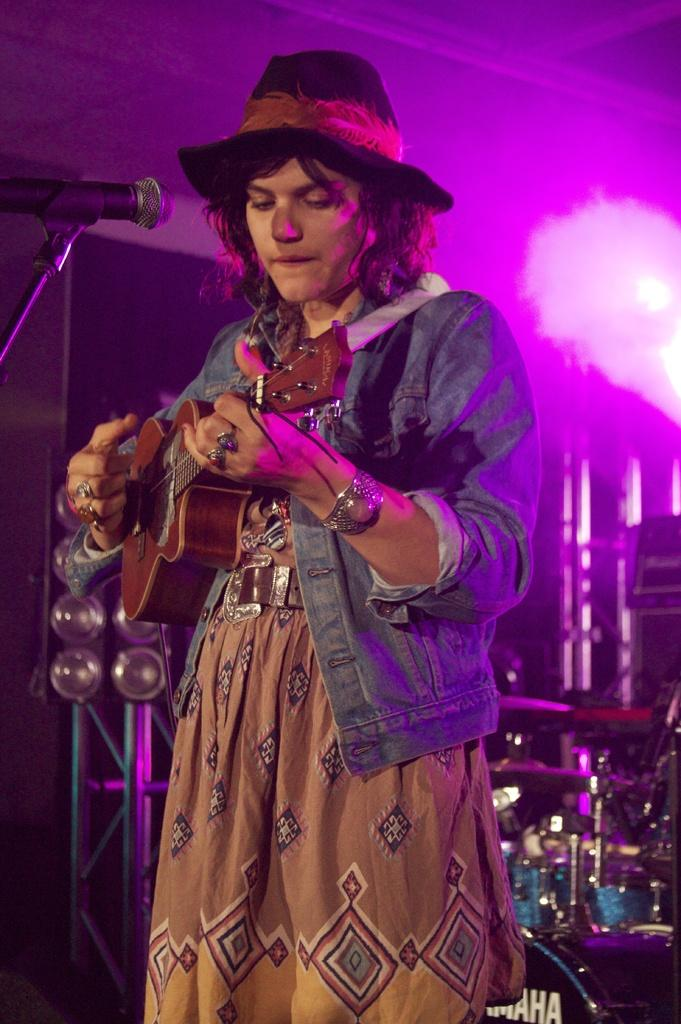Hat: (180, 42, 453, 212)
